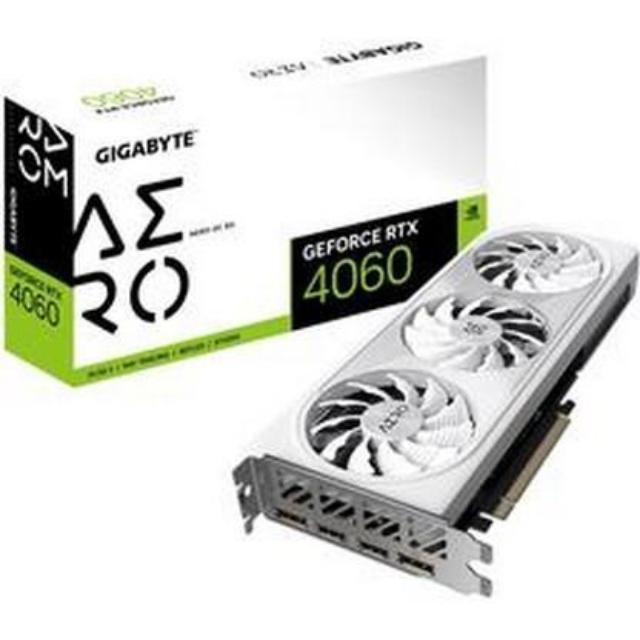GPU: (228, 234, 640, 623)
